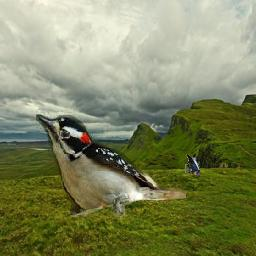Swallow: (186, 155, 201, 176)
Woodpecker: (36, 109, 186, 217)
